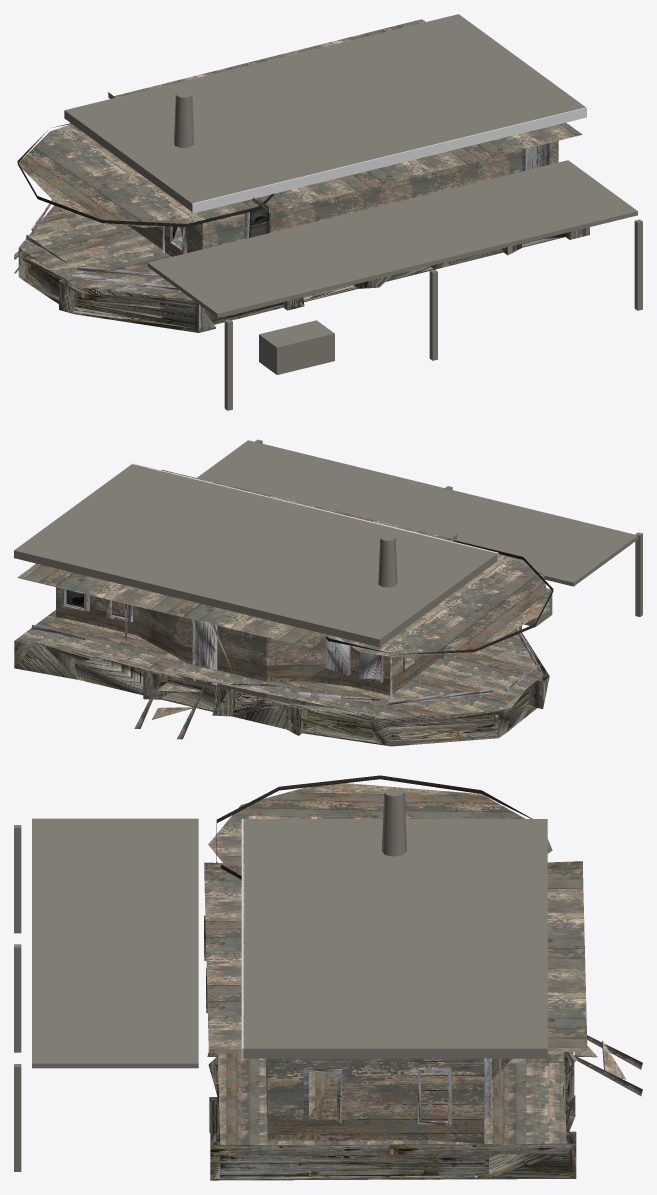
3 views of the same model, one above another, from view 1: azimuth 30°, elevation 25°; view 2: azimuth 150°, elevation 25°; view 3: azimuth 270°, elevation 25° (orthographic). The views are drawn at different scales.
Parts seen in each view (by area): view 1: dweller_building_workshop; view 2: dweller_building_workshop; view 3: dweller_building_workshop.
Boxes of the visible parts, x1,y1,x2,y2 form: dweller_building_workshop: (14,14,642,410); dweller_building_workshop: (14,439,642,746); dweller_building_workshop: (14,775,642,1180).
Size of the model in its own units: 18.69 by 6.25 by 17.36.
6 materials, 4 textured.
